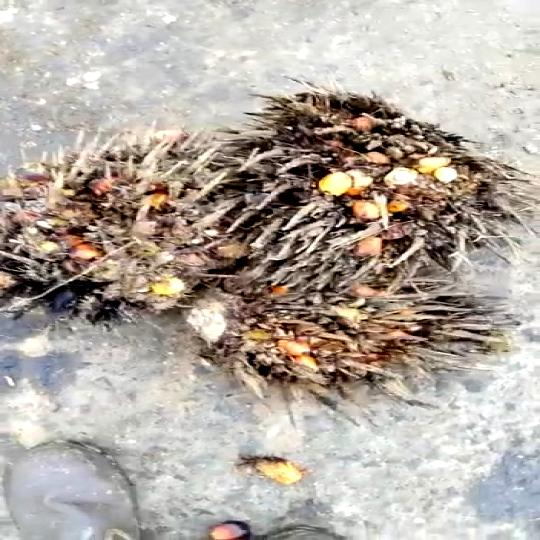terlalu masak: (188, 102, 502, 270), (0, 146, 276, 328), (165, 252, 502, 401)
